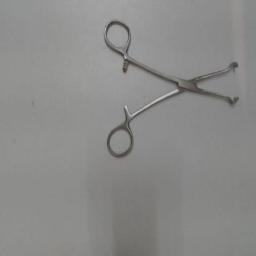Babcock Tissue Forceps: (102, 16, 240, 164)
